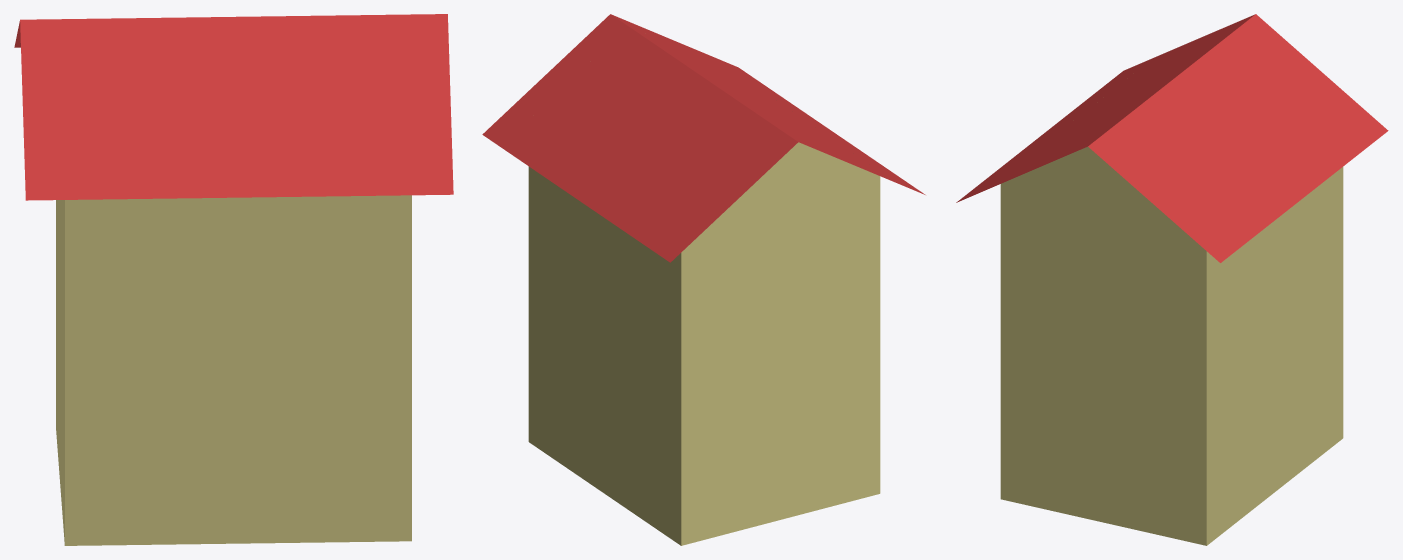
3 views of the same model, side by side, from view 1: azimuth 30°, elevation 25°; view 2: azimuth 150°, elevation 25°; view 3: azimuth 270°, elevation 25° (orthographic). The views are drawn at different scales.
Visible parts, largest first — view 1: group_5, group_3, group_4; view 2: group_5, group_3, group_4; view 3: group_5, group_3, group_4.
Part boxes in pixels (<box>): group_5: <box>56,195,411,545</box>; group_3: <box>20,14,453,200</box>; group_4: <box>14,14,452,200</box>; group_5: <box>528,142,880,545</box>; group_3: <box>529,14,878,262</box>; group_4: <box>482,14,925,261</box>; group_5: <box>1000,146,1343,545</box>; group_3: <box>956,14,1388,257</box>; group_4: <box>956,14,1387,262</box>.
Size of the model in its own units: 13.6 by 12.93 by 12.8.
